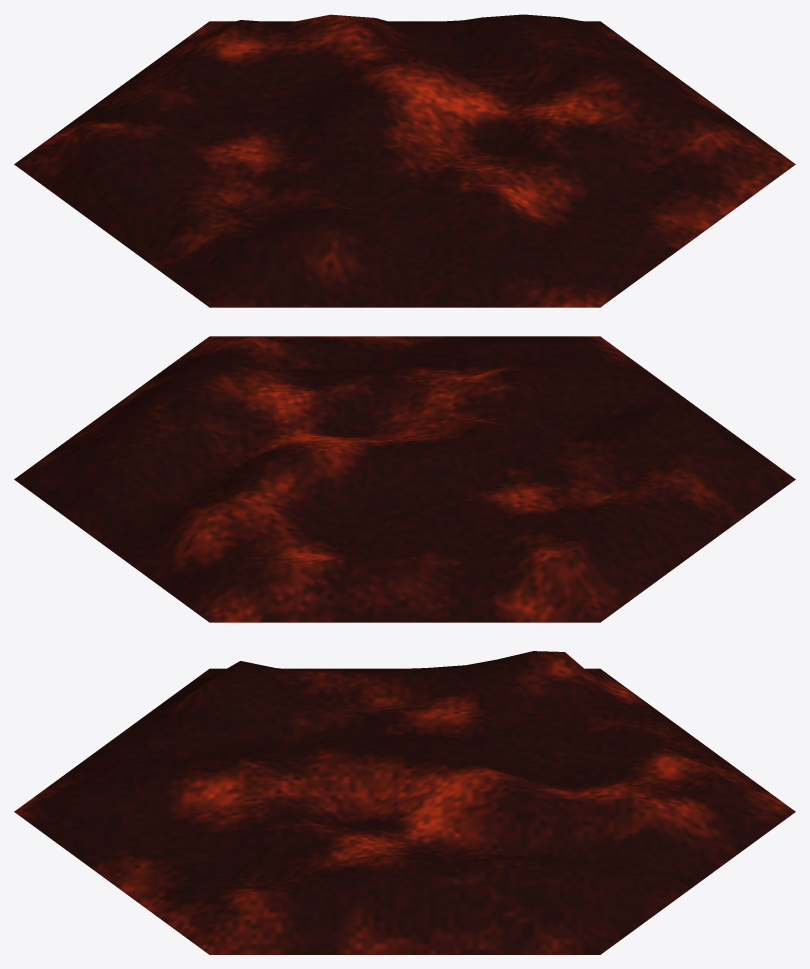
The model's file is HexSoil_s12.fbx.
The picture shows the model from 3 angles, top to bottom: view 1: azimuth 30°, elevation 25°; view 2: azimuth 150°, elevation 25°; view 3: azimuth 270°, elevation 25°; orthographic projection.
Parts seen in each view (by area): view 1: HexSoil_s12; view 2: HexSoil_s12; view 3: HexSoil_s12.
Boxes of the visible parts, bbox=[...] form: HexSoil_s12: bbox=[14, 14, 795, 307]; HexSoil_s12: bbox=[14, 336, 795, 622]; HexSoil_s12: bbox=[14, 651, 795, 954].
Size of the model in its own units: 86.6 by 7.66 by 100.
1 material, 1 textured.
